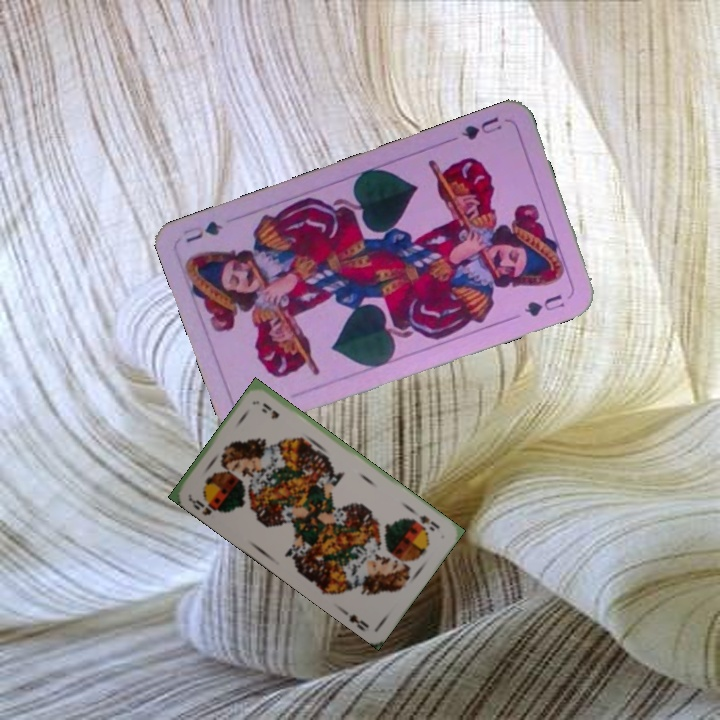GU: (457, 112, 505, 143)
SO: (185, 491, 225, 518), (415, 511, 442, 534)
